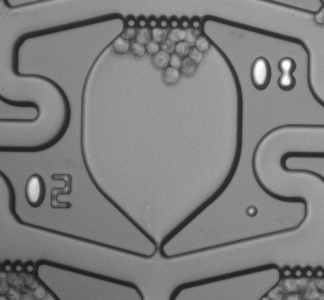AptNum: (244, 50, 306, 95)
Marker: (236, 198, 266, 225)
StNum: (18, 168, 80, 218)
Trap: (138, 247, 182, 289)
